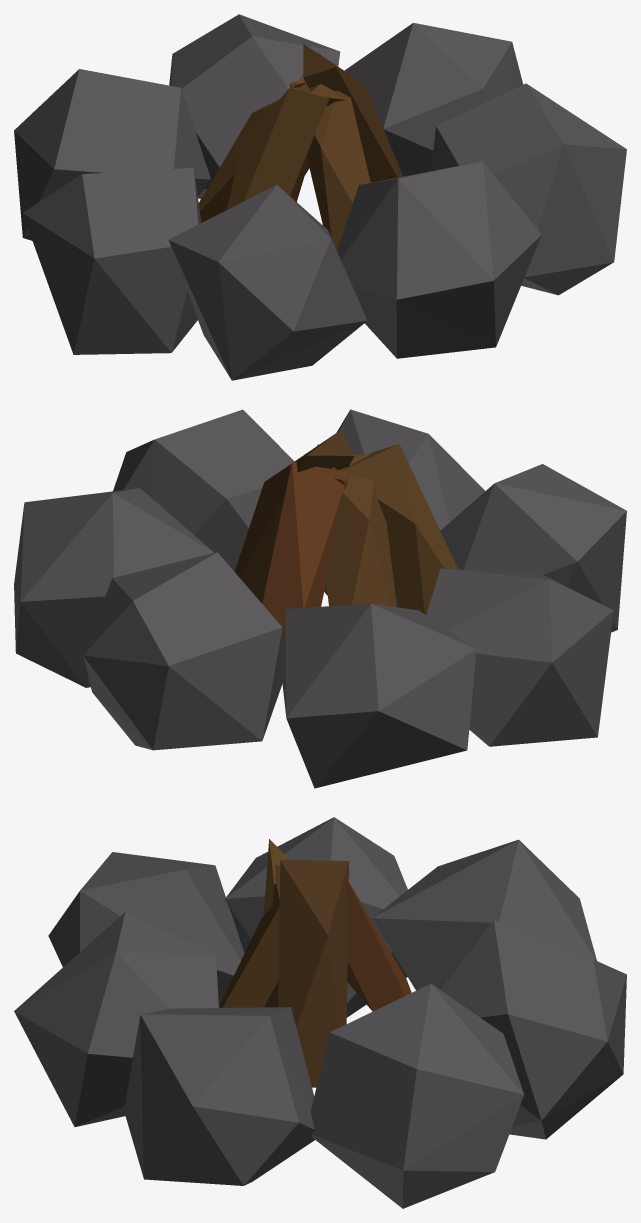
File: standartlagerfeuer.fbx
3 views of the same model, one above another, from view 1: azimuth 30°, elevation 25°; view 2: azimuth 150°, elevation 25°; view 3: azimuth 270°, elevation 25° (orthographic). The views are drawn at different scales.
Visible parts, largest first — view 1: Icosphere.004, Icosphere.006, Icosphere.005, Icosphere.003, Icosphere.001, Icosphere.002, Icosphere, Cube.002, Cube.001, Cube.004, Cube.003; view 2: Icosphere, Icosphere.001, Icosphere.006, Icosphere.002, Icosphere.005, Icosphere.003, Cube, Cube.002, Cube.003, Icosphere.004, Cube.004; view 3: Icosphere.002, Icosphere.003, Icosphere, Icosphere.004, Icosphere.001, Icosphere.005, Cube.004, Icosphere.006, Cube, Cube.001, Cube.002.
Part boxes in pixels (x1,y1,x2,y2): Icosphere.004: (337,161,541,358); Icosphere.006: (22,168,201,354); Icosphere.005: (168,184,367,380); Icosphere.003: (431,83,626,295); Icosphere.001: (14,69,210,240); Icosphere.002: (344,23,523,176); Icosphere: (169,14,340,199); Cube.002: (227,86,328,209); Cube.001: (289,71,370,249); Cube.004: (303,44,403,182); Cube.003: (198,83,345,222); Icosphere: (83,552,283,750); Icosphere.001: (282,603,476,788); Icosphere.006: (426,568,613,746); Icosphere.002: (14,488,212,687); Icosphere.005: (440,464,626,632); Icosphere.003: (113,409,294,571); Cube: (262,461,348,648); Cube.002: (341,444,457,614); Cube.003: (324,453,396,607); Icosphere.004: (324,409,485,607); Cube.004: (234,430,354,603); Icosphere.002: (310,983,524,1208); Icosphere.003: (124,1007,314,1185); Icosphere: (440,920,626,1139); Icosphere.004: (14,912,218,1126); Icosphere.001: (372,839,596,990); Icosphere.005: (48,852,244,1005); Cube.004: (278,860,348,1087); Icosphere.006: (225,817,407,1017); Cube: (340,879,411,1011); Cube.001: (219,881,296,1007); Cube.002: (263,839,289,1007).
Bounding box in the file's own units: 577 × 260 × 564.
